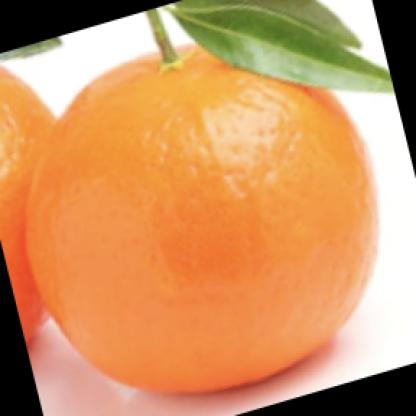fresh: (29, 46, 381, 395)
